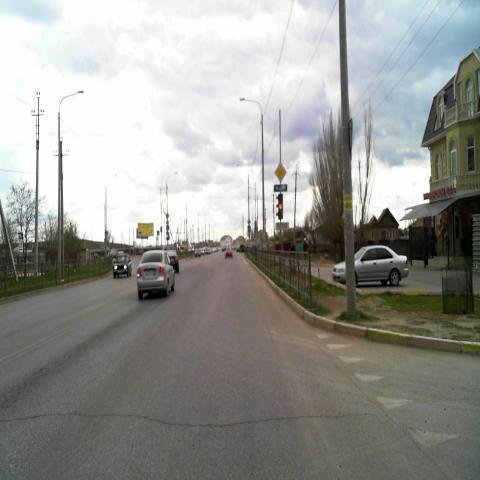6_16: (275, 222, 289, 231)
